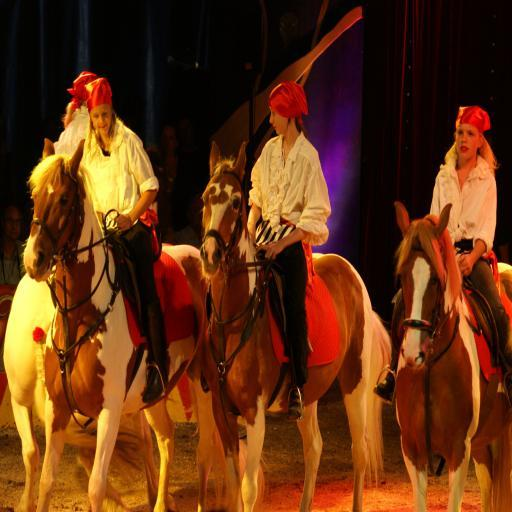Horse: (18, 136, 268, 511), (194, 138, 395, 512), (0, 274, 177, 512), (392, 199, 512, 512)
